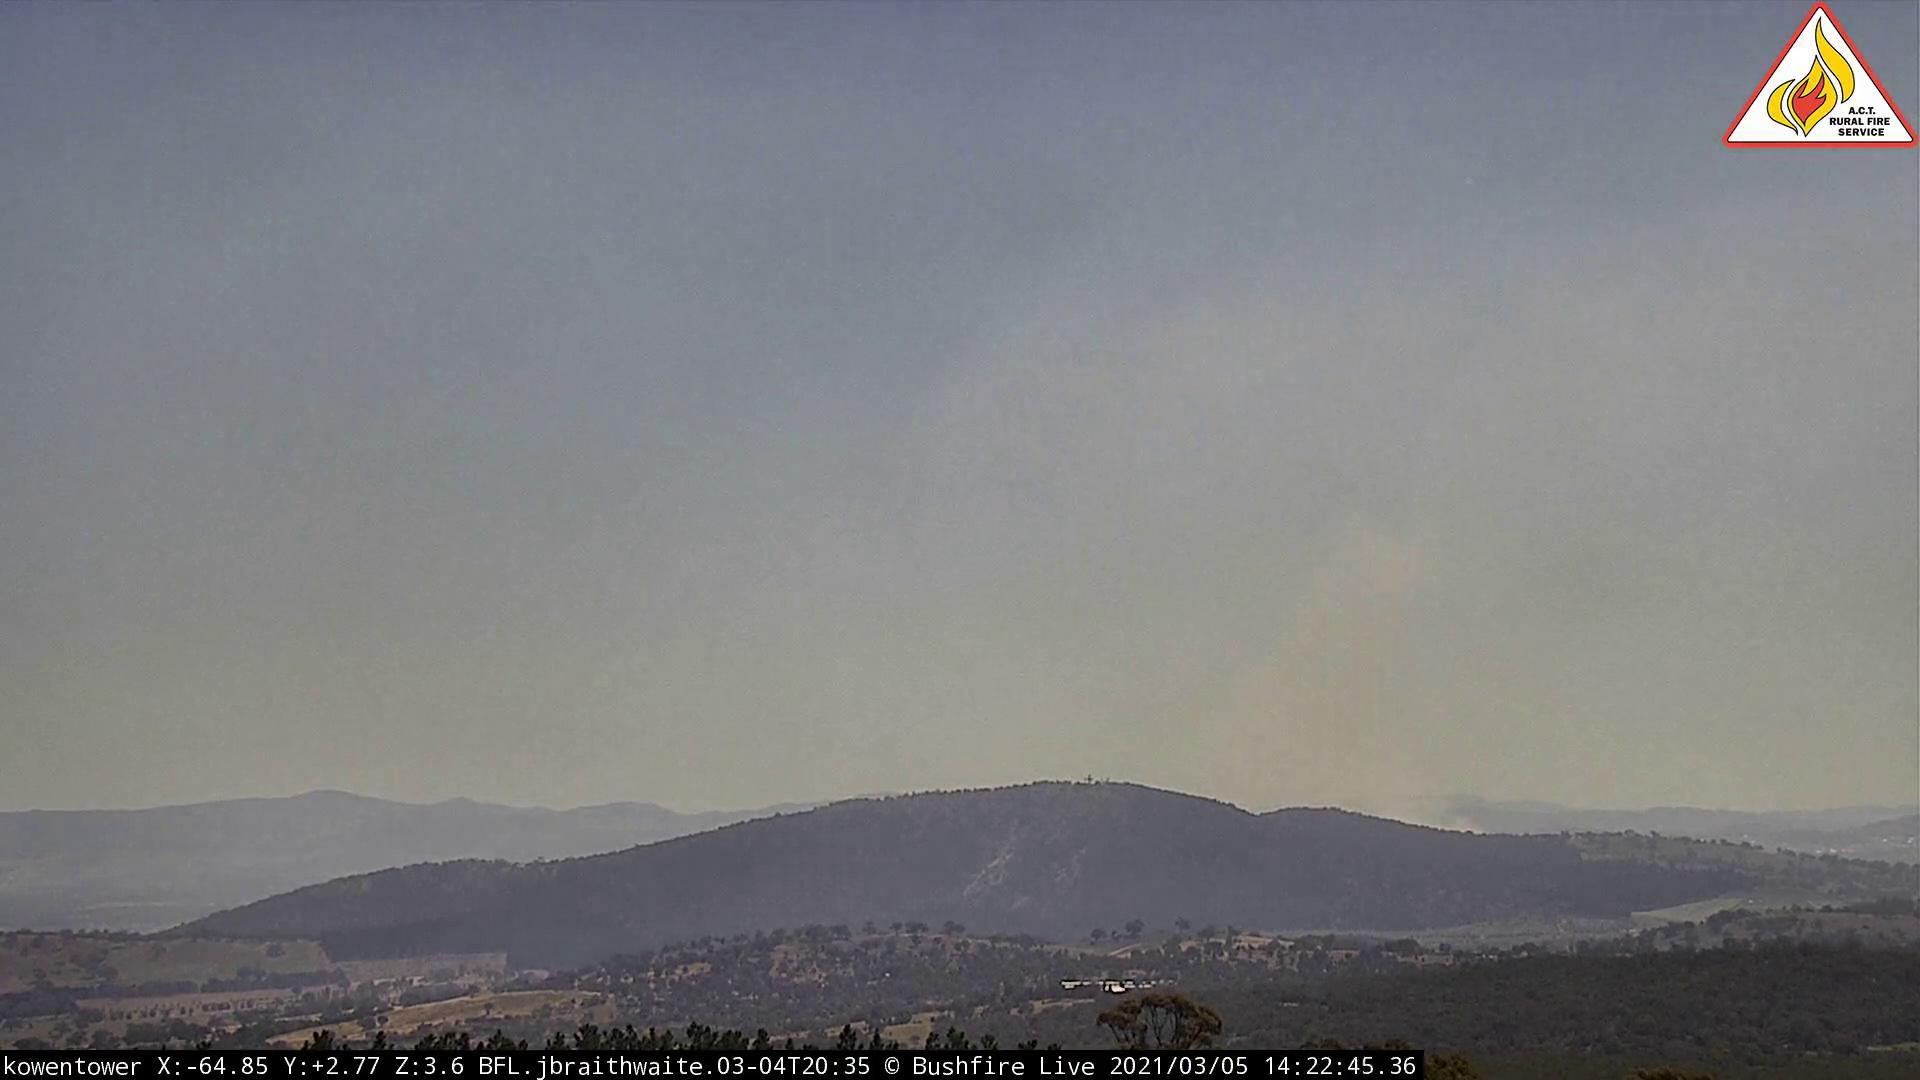Smoke: (1241, 534, 1499, 844)
